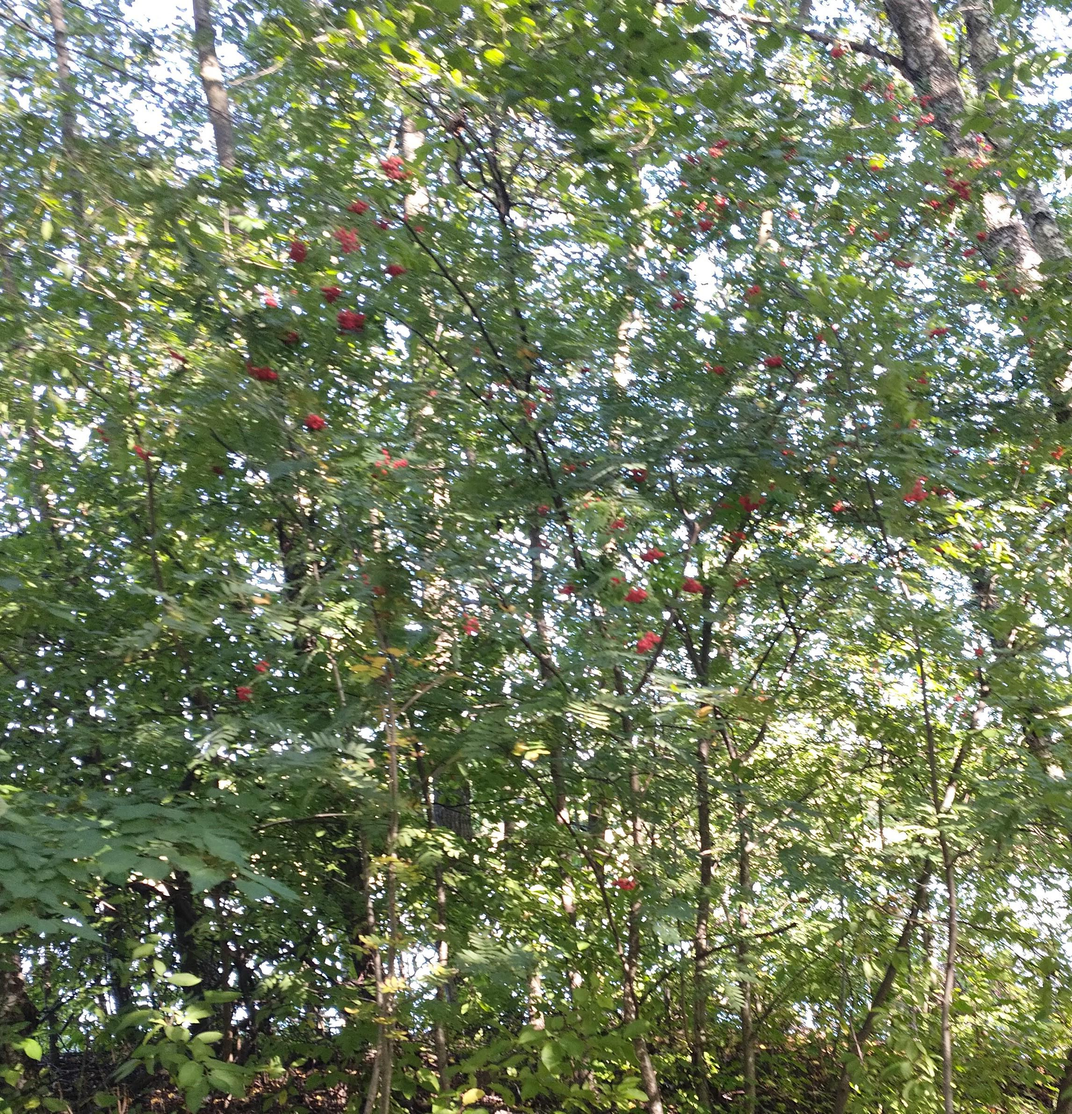Rowan: (188, 0, 1071, 1112)
